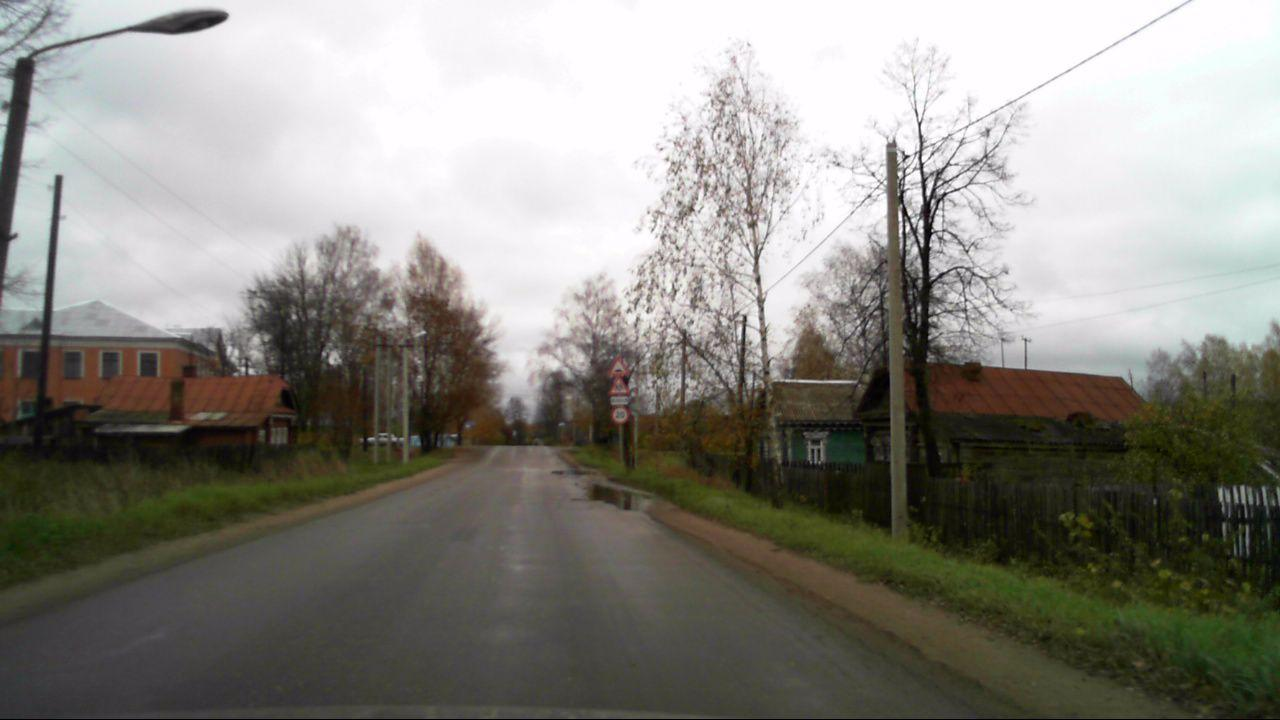road_sign: (607, 357, 630, 375), (608, 377, 630, 394), (610, 406, 630, 424)
